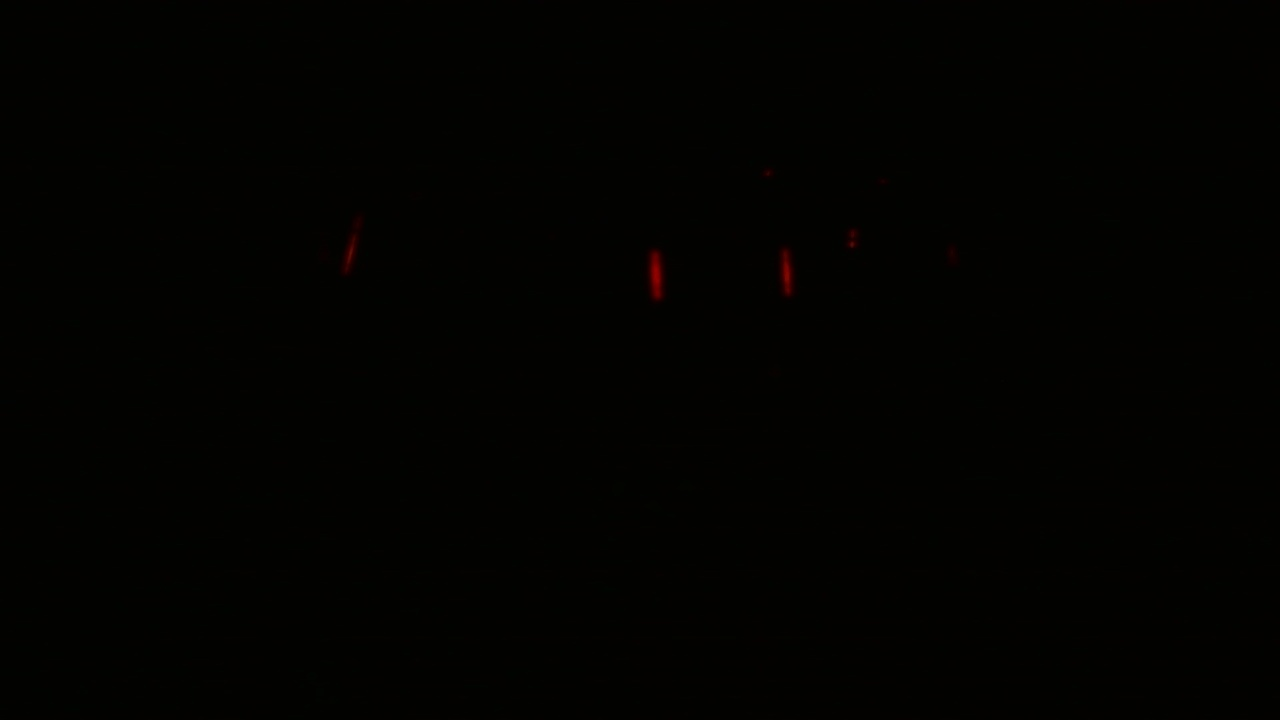pair1: (639, 237, 801, 306)
